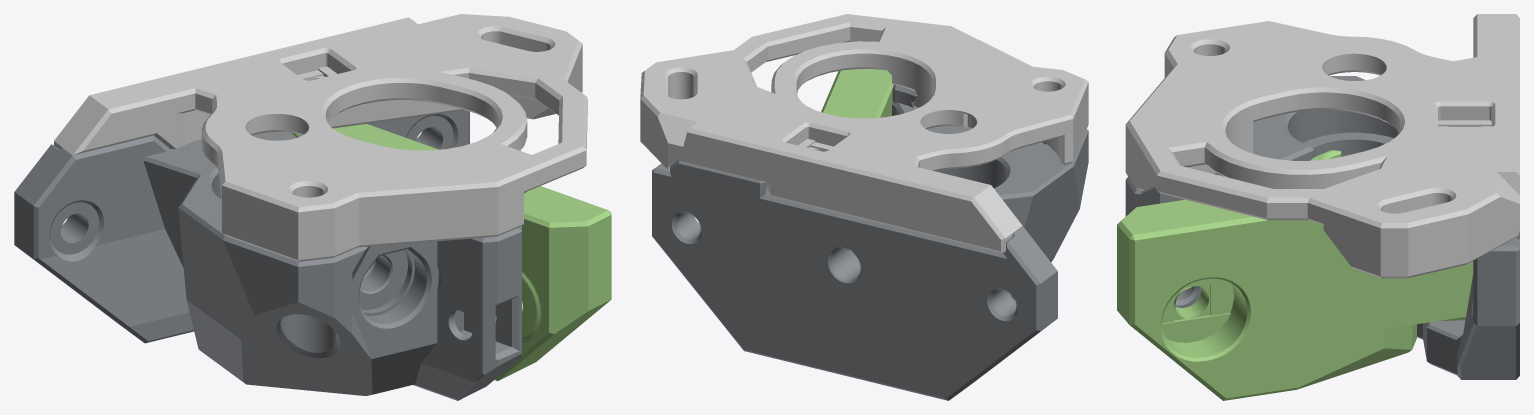
The model's file is A4T - WW-BMG.gltf.
The picture shows the model from 3 angles, left to right: view 1: azimuth 30°, elevation 25°; view 2: azimuth 150°, elevation 25°; view 3: azimuth 270°, elevation 25°; orthographic projection. The views are drawn at different scales.
Parts seen in each view (by area): view 1: A4T - WWBMG - Main_Body [Sherpa-Mini spacing], A4T - WWBMG - Motor Plate, A4T - WWBMG - Beefy_Tension_Arm - Smooth_Idler; view 2: A4T - WWBMG - Main_Body [Sherpa-Mini spacing], A4T - WWBMG - Motor Plate, A4T - WWBMG - Beefy_Tension_Arm - Smooth_Idler; view 3: A4T - WWBMG - Motor Plate, A4T - WWBMG - Beefy_Tension_Arm - Smooth_Idler, A4T - WWBMG - Main_Body [Sherpa-Mini spacing].
Part boxes in pixels (left/top/right/bottom): A4T - WWBMG - Main_Body [Sherpa-Mini spacing]: left=14, top=110, right=521, bottom=400; A4T - WWBMG - Motor Plate: left=54, top=14, right=587, bottom=261; A4T - WWBMG - Beefy_Tension_Arm - Smooth_Idler: left=292, top=124, right=611, bottom=381; A4T - WWBMG - Main_Body [Sherpa-Mini spacing]: left=652, top=85, right=1088, bottom=400; A4T - WWBMG - Motor Plate: left=640, top=14, right=1088, bottom=252; A4T - WWBMG - Beefy_Tension_Arm - Smooth_Idler: left=821, top=69, right=893, bottom=118; A4T - WWBMG - Motor Plate: left=1125, top=14, right=1519, bottom=278; A4T - WWBMG - Beefy_Tension_Arm - Smooth_Idler: left=1117, top=150, right=1473, bottom=400; A4T - WWBMG - Main_Body [Sherpa-Mini spacing]: left=1125, top=76, right=1519, bottom=379.
Size of the model in its own units: 0.0615 by 0.0276 by 0.0423.
